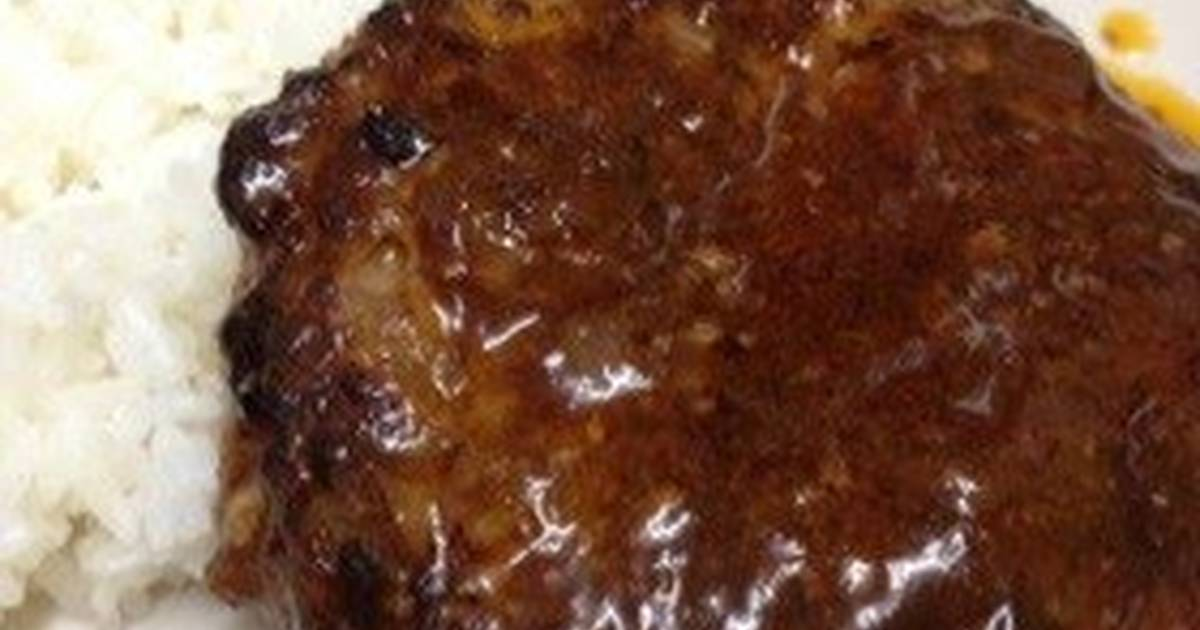ground_beef: (262, 71, 921, 534)
